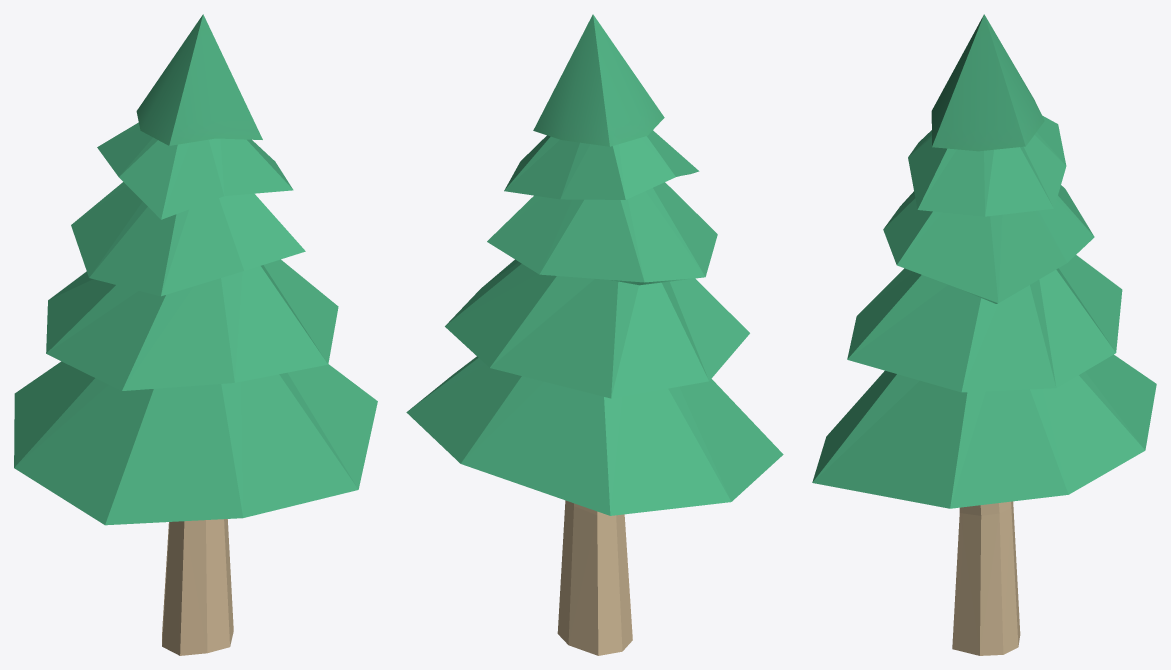
The model's file is sapinclair.FBX.
3 renders of one model, left to right at view 1: azimuth 30°, elevation 25°; view 2: azimuth 150°, elevation 25°; view 3: azimuth 270°, elevation 25°, orthographic.
Parts seen in each view (by area): view 1: Pyramid001; view 2: Pyramid001; view 3: Pyramid001.
Part boxes in pixels (x1,y1,x2,y2): Pyramid001: (14,14,377,655); Pyramid001: (406,14,783,655); Pyramid001: (812,14,1156,655).
Size of the model in its own units: 78.9 by 147 by 72.47.
